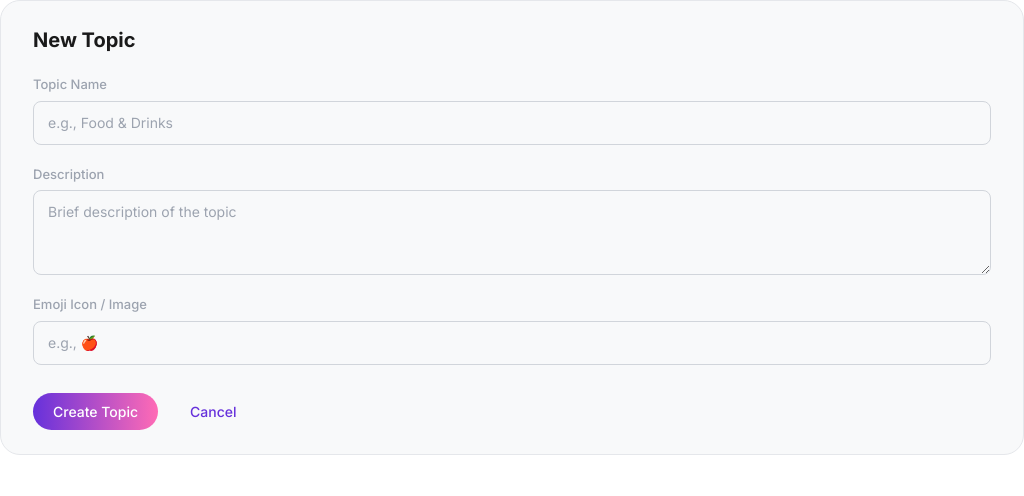
Test case: AdminTopicForm › shows a validation error when name is empty
Click the button "Create Topic": (96, 411) [33,392,158,430]
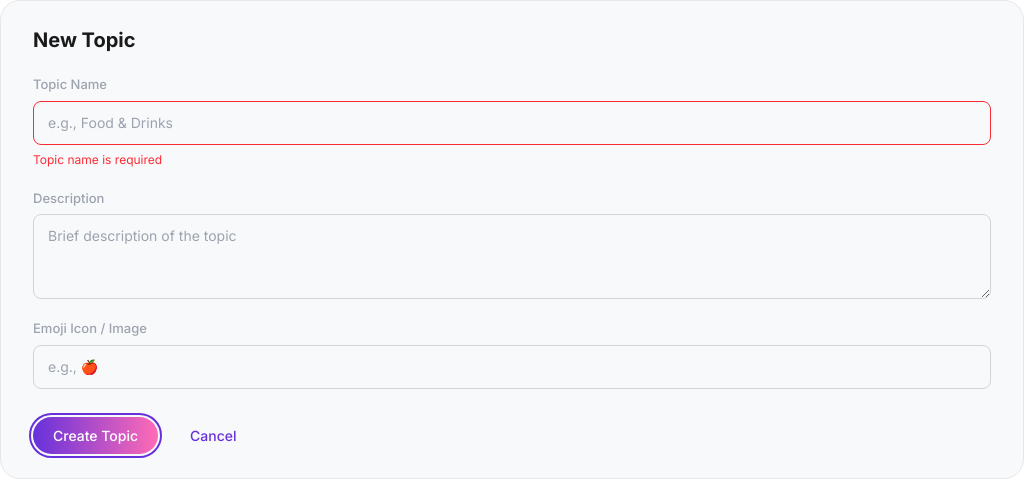
expect the message reads "Topic name is required": met, box [33,152,162,166]
